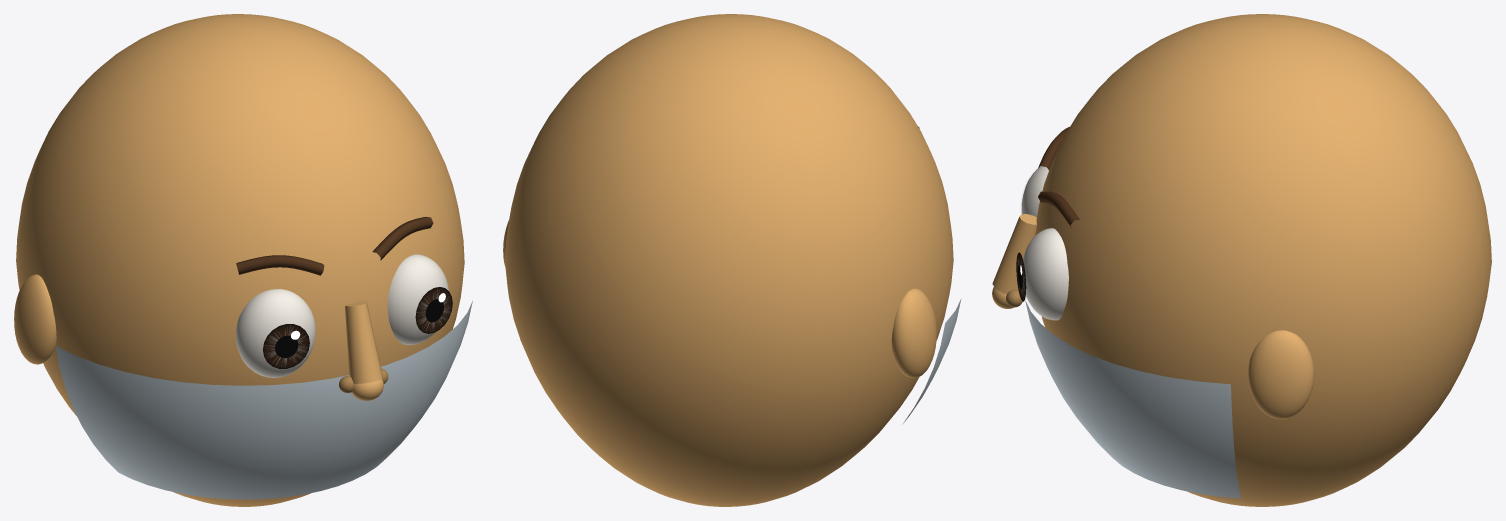
File: 08-masque-chirurgical.glb
The picture shows the model from 3 angles, left to right: view 1: azimuth 30°, elevation 25°; view 2: azimuth 150°, elevation 25°; view 3: azimuth 270°, elevation 25°; orthographic projection.
Size of what is drawn, in the model's own units: 0.3087 by 0.321 by 0.3166.
10 materials, 1 textured.
